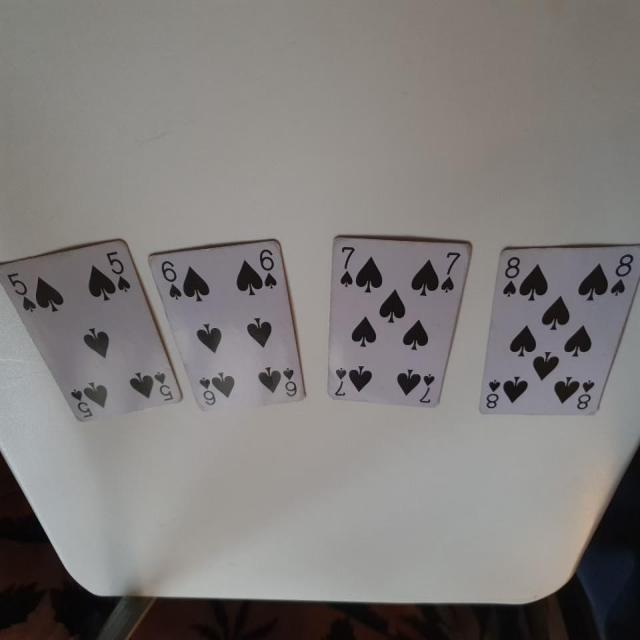5 Spades: (1, 228, 182, 434)
6 Spades: (143, 222, 302, 449)
7 Spades: (315, 234, 477, 423)
8 Spades: (479, 230, 640, 437)
